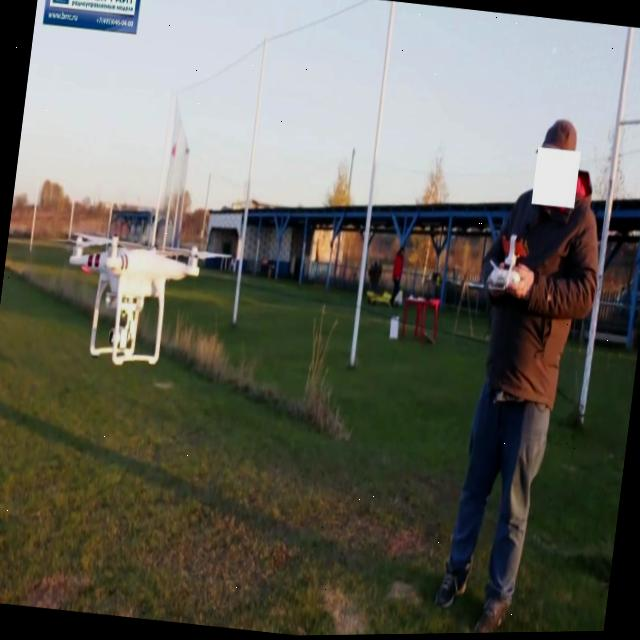drone: (35, 207, 238, 377)
